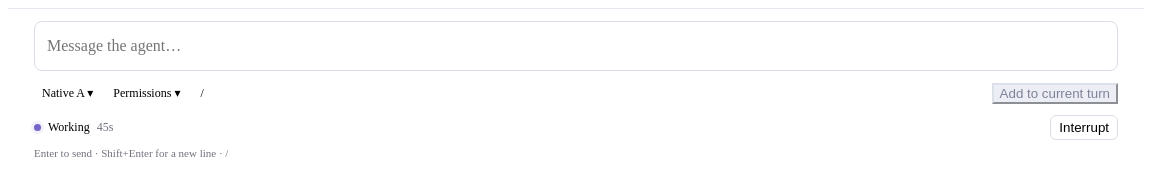
Test case: composer provider controls › shows native working time, keeps steer available, and waits on interrupt independently
Type "steer now" into the text box.
click(576, 46); type("steer now")  # box [34,21,1118,71]
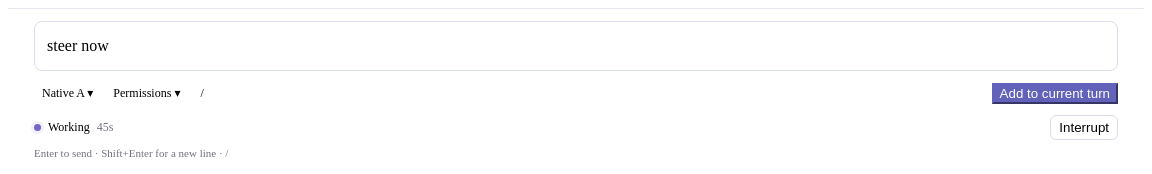
Expected: the text "Working" is shown, [48,120,90,135]
Expected: the button "Add to current turn" is enabled, [992,83,1118,104]
Click the button "Interrupt".
click(1084, 128)  # box [1050,115,1118,140]
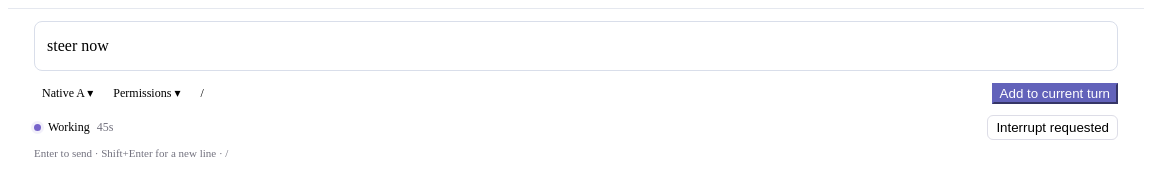
Expected: the button named "Interrupting…" is disabled, [987,115,1118,140]
Expected: the button "Interrupt requested" is disabled, [987,115,1118,140]
